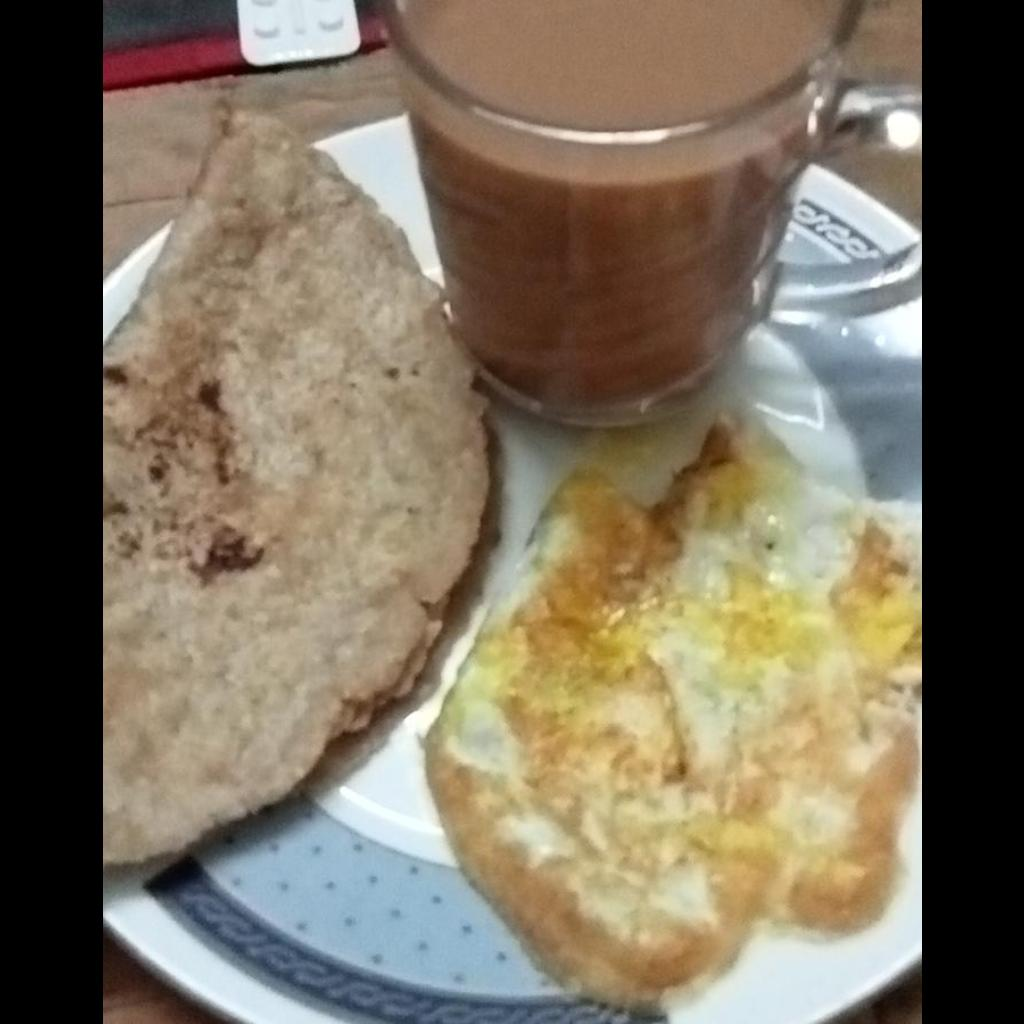cha: (402, 2, 846, 124)
egg-poached: (420, 412, 919, 1017)
ruti: (104, 105, 496, 869)
